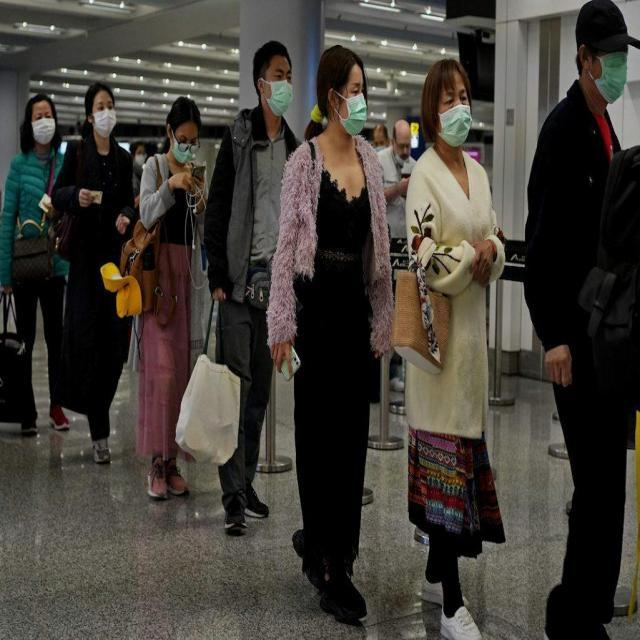hairnet: (390, 118, 414, 167)
